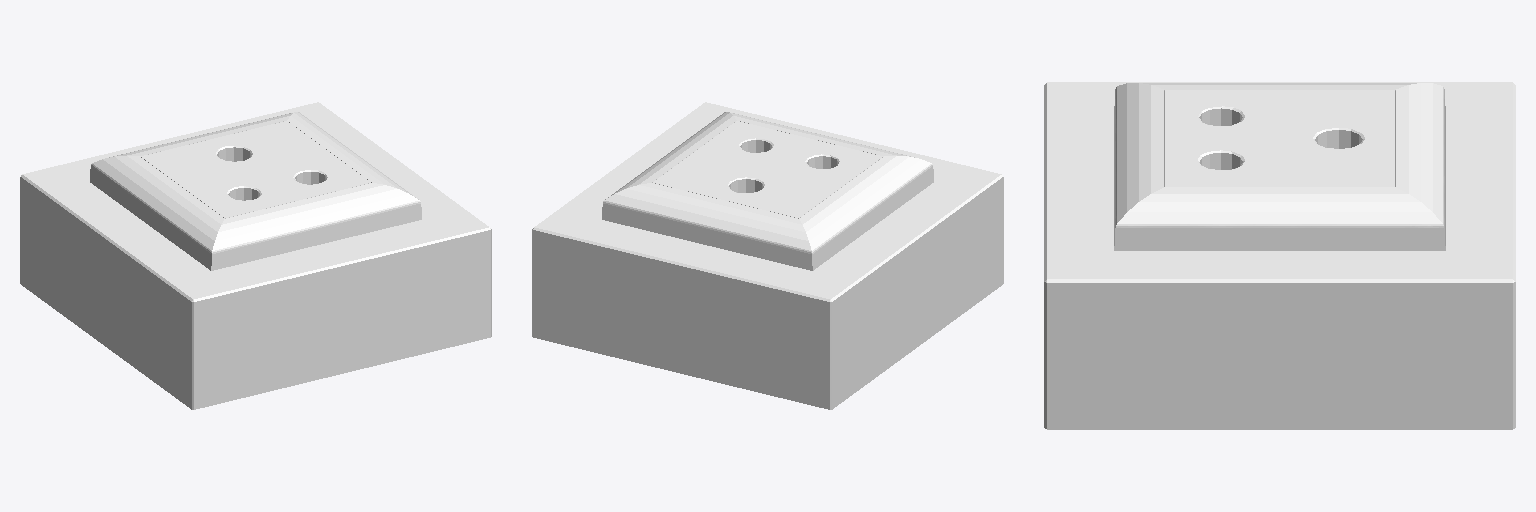
URDF robot description (Socket_India):
<?xml version="1.0" ?>
<robot name="Socket_India">
 <link concave="yes" name="baseLink">
   <contact>
     <lateral_friction value="0.5"/>
   </contact>
   <inertial>
     <origin rpy="0 0 0" xyz="0.0 0.0 0.0"/>
      <mass value="1.0"/>
      <inertia ixx="0" ixy="0" ixz="0" iyy="0" iyz="0" izz="0"/>
   </inertial>
   <visual>
     <origin rpy="0 0 0" xyz="0 0 0"/>
     <geometry>
       <mesh filename="package://bopt_gmm/objects/electrical_plugs/Socket_India.obj" scale="1.0 1.0 1.0"/>
     </geometry>
      <material name="white">
       <color rgba="1 1 1 1"/>
     </material>
   </visual>
   <collision concave="yes">
     <origin rpy="0 0 0" xyz="0 0 0"/>
     <geometry>
       <mesh filename="package://bopt_gmm/objects/electrical_plugs/Socket_India.obj" scale="1.0 1.0 1.0"/>
     </geometry>
   </collision>
 </link>
</robot>

--- Render facts (derived) ---
3 views of the same robot in one strip: view 1: azimuth 30°, elevation 25°; view 2: azimuth 150°, elevation 25°; view 3: azimuth 270°, elevation 25° (orthographic).
Robot: Socket_India — 1 links, 0 joints (none); root link baseLink; default pose: all joints at 0.
Links seen in each view (by area): view 1: baseLink; view 2: baseLink; view 3: baseLink.
Boxes of the visible links, x1,y1,x2,y2 form: baseLink: [20, 102, 491, 409]; baseLink: [532, 102, 1003, 409]; baseLink: [1044, 82, 1515, 429].
Size in the robot's own frame: 0.1145 by 0.1145 by 0.0514 metres.
1 mesh visuals loaded from 1 distinct referenced files (1 OBJ).